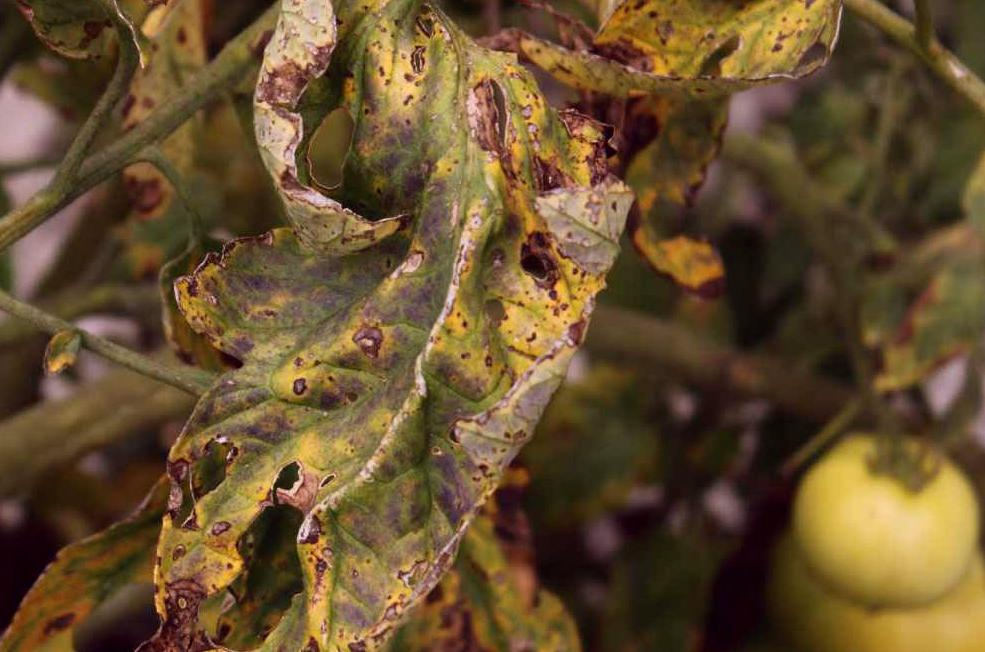Tomato Septoria leaf spot: (143, 0, 638, 652), (552, 0, 972, 100)
